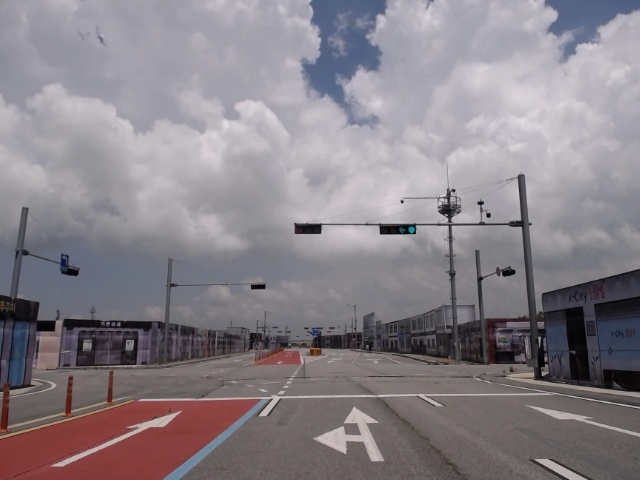all_green_4: (378, 226, 416, 234)
